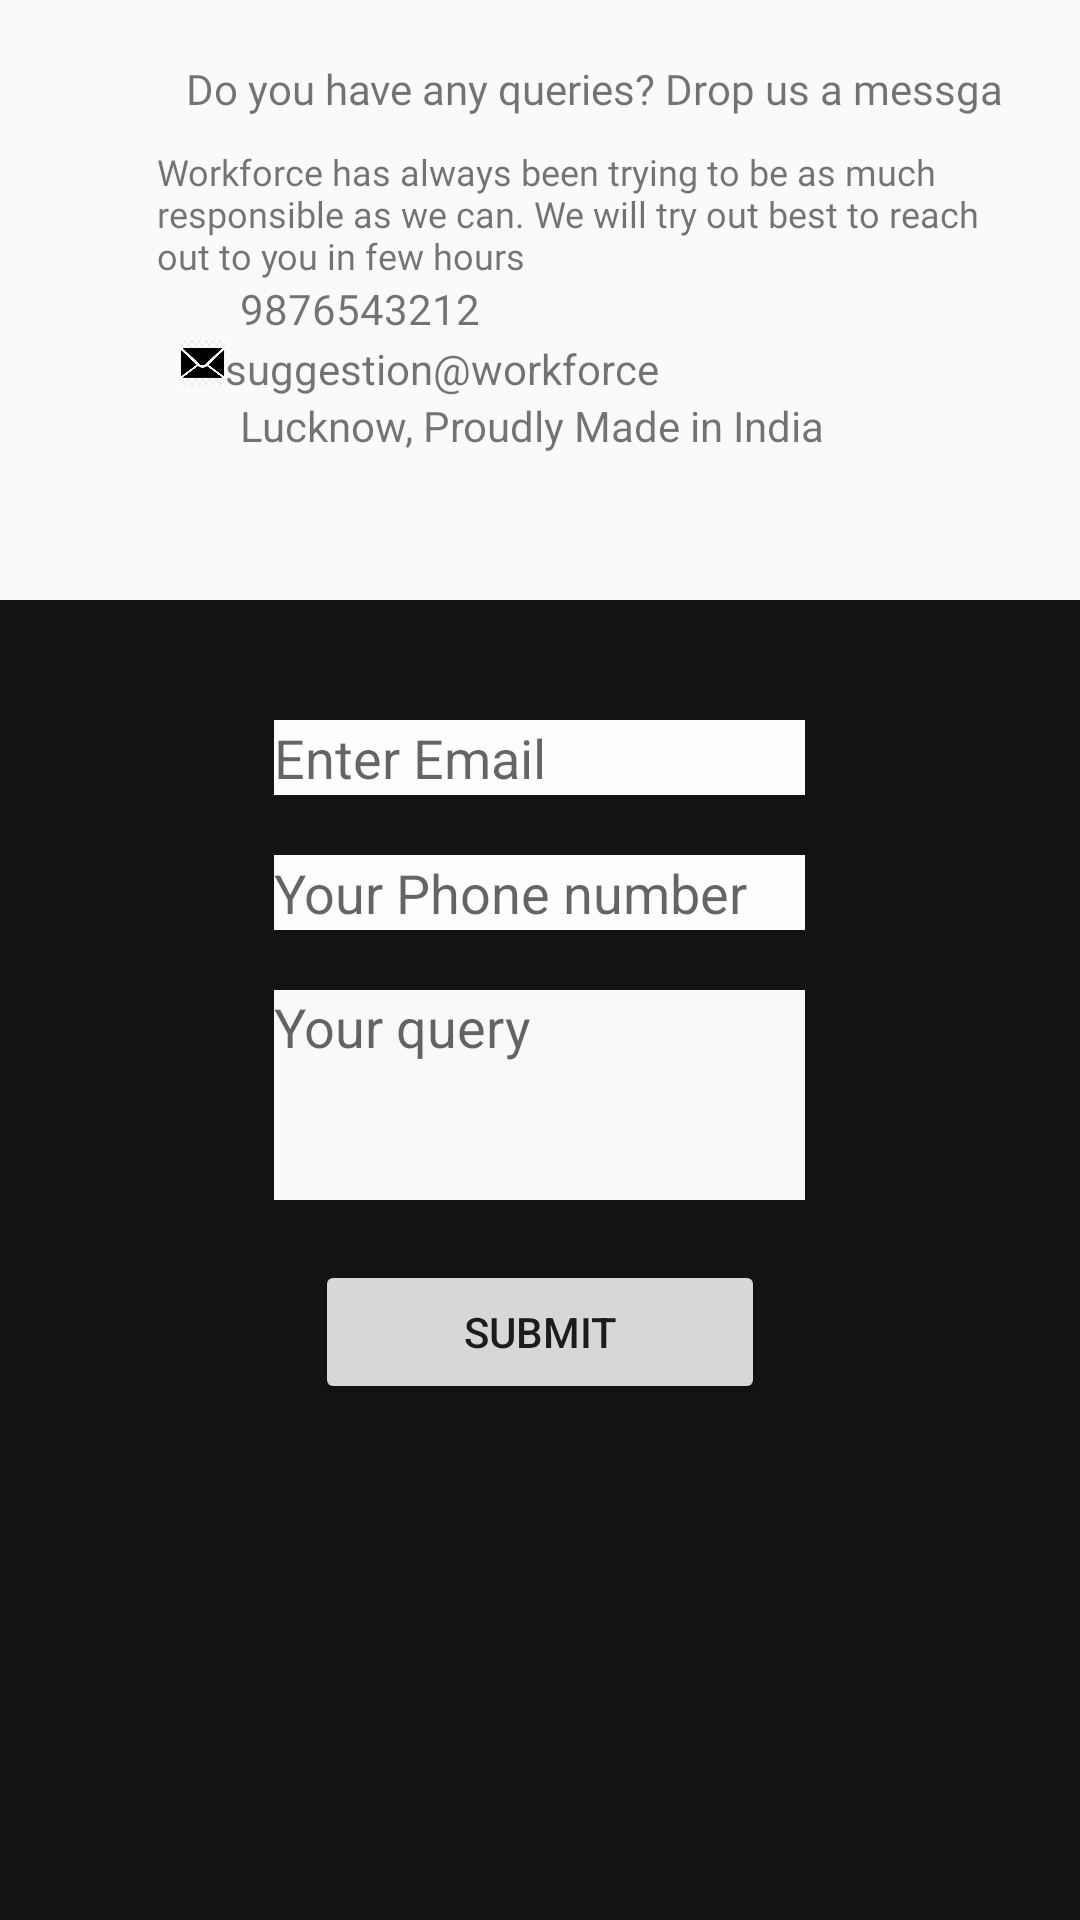

Icons on this 1080px×1920px Android screen, each with its box as (x1, y1, x2, y2):
mailicon: (181, 348, 224, 378)
